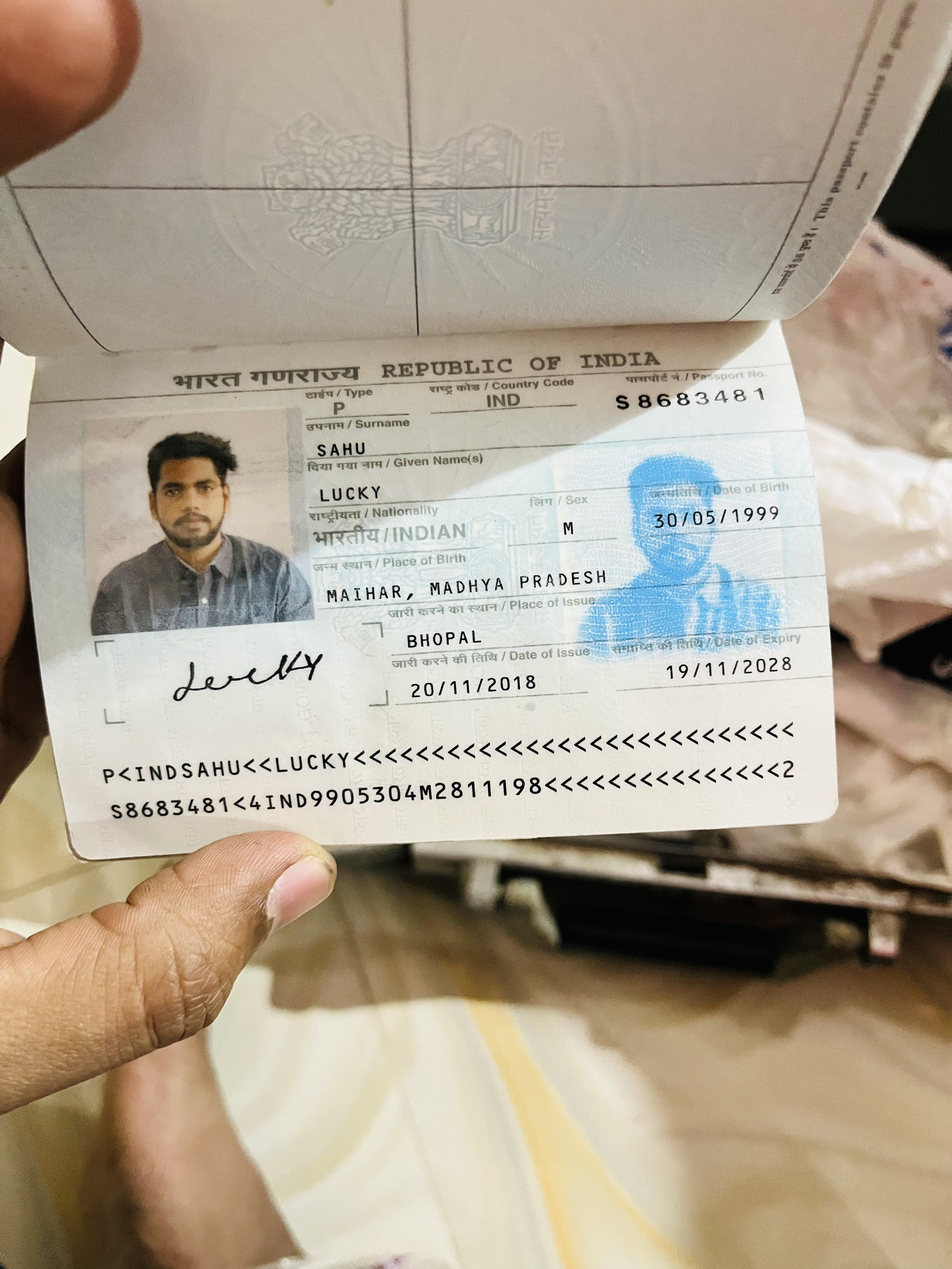Surname: (315, 439, 373, 458)
country_code: (482, 389, 527, 412)
date_of_expiry: (660, 651, 804, 684)
date_of_issue: (405, 667, 537, 706)
details: (85, 710, 812, 841)
name: (312, 477, 400, 503)
nationality: (309, 522, 474, 548)
passport_no: (605, 385, 774, 415)
photo: (68, 416, 305, 625)
place_of_birth: (318, 559, 617, 607)
place_of_issue: (400, 623, 487, 653)
sex: (552, 513, 590, 548)
sign: (170, 646, 329, 708)
type: (322, 396, 354, 419)
